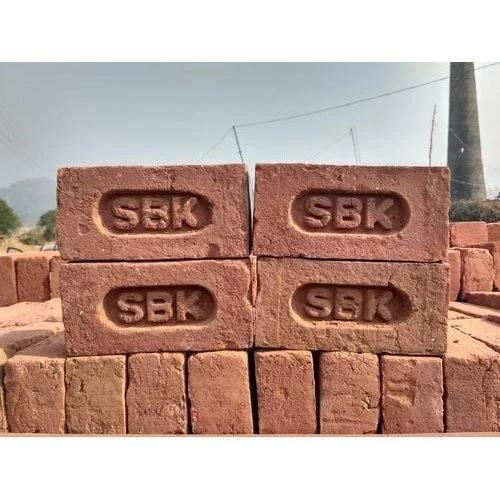brick: (56, 163, 250, 263), (251, 164, 451, 260), (61, 260, 250, 360), (253, 259, 449, 354), (191, 351, 251, 435), (68, 355, 128, 438), (319, 354, 382, 433), (381, 356, 444, 434), (256, 351, 315, 434), (5, 360, 68, 436), (126, 355, 184, 435), (446, 356, 500, 431), (16, 256, 48, 306), (463, 249, 493, 296), (455, 223, 490, 247)
